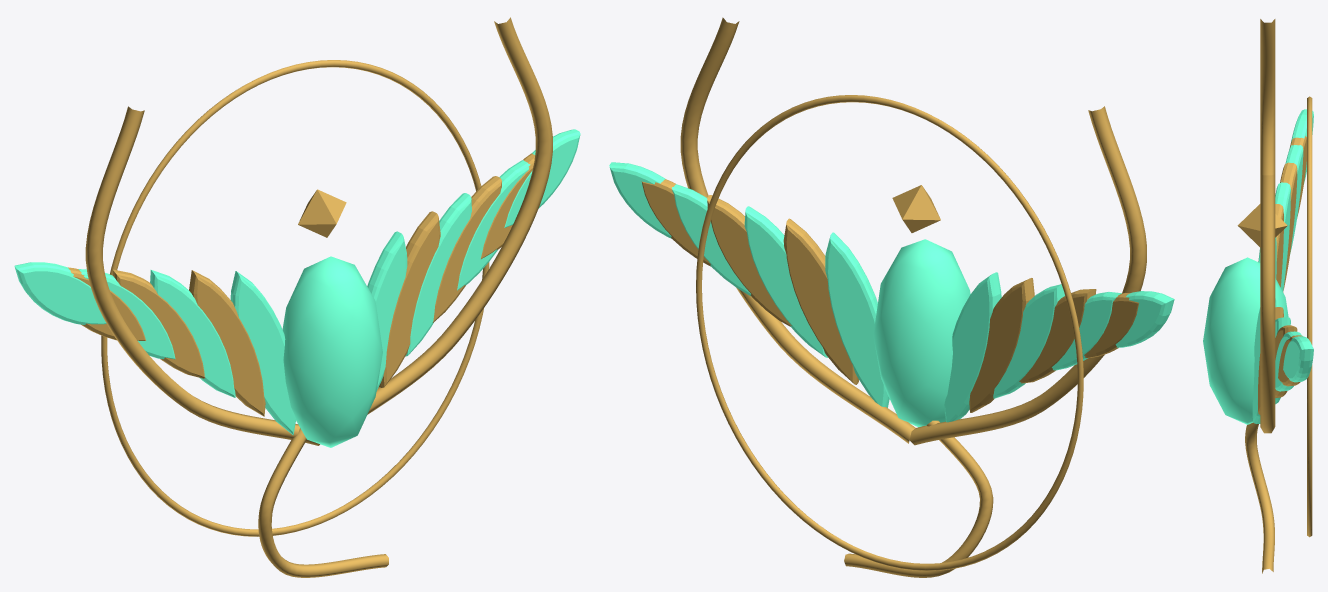
The picture shows the model from 3 angles, left to right: view 1: azimuth 30°, elevation 25°; view 2: azimuth 150°, elevation 25°; view 3: azimuth 270°, elevation 25°; orthographic projection. The views are drawn at different scales.
Parts seen in each view (by area): view 1: ASTRAVA A; view 2: ASTRAVA A; view 3: ASTRAVA A.
Part boxes in pixels (x1,y1,x2,y2): ASTRAVA A: (14, 17, 580, 577); ASTRAVA A: (609, 17, 1174, 577); ASTRAVA A: (1203, 19, 1313, 573).
Size of the model in its own units: 3.39 by 2.99 by 0.6614.
